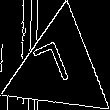L_SE: (36, 39, 81, 98)
